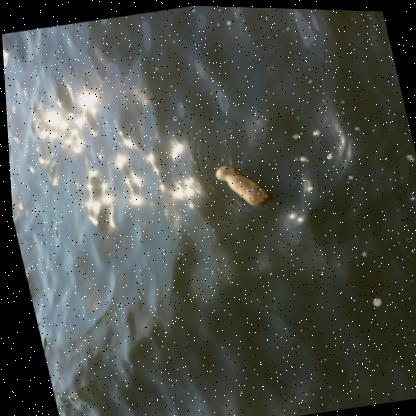Plastic: (212, 164, 264, 203)
